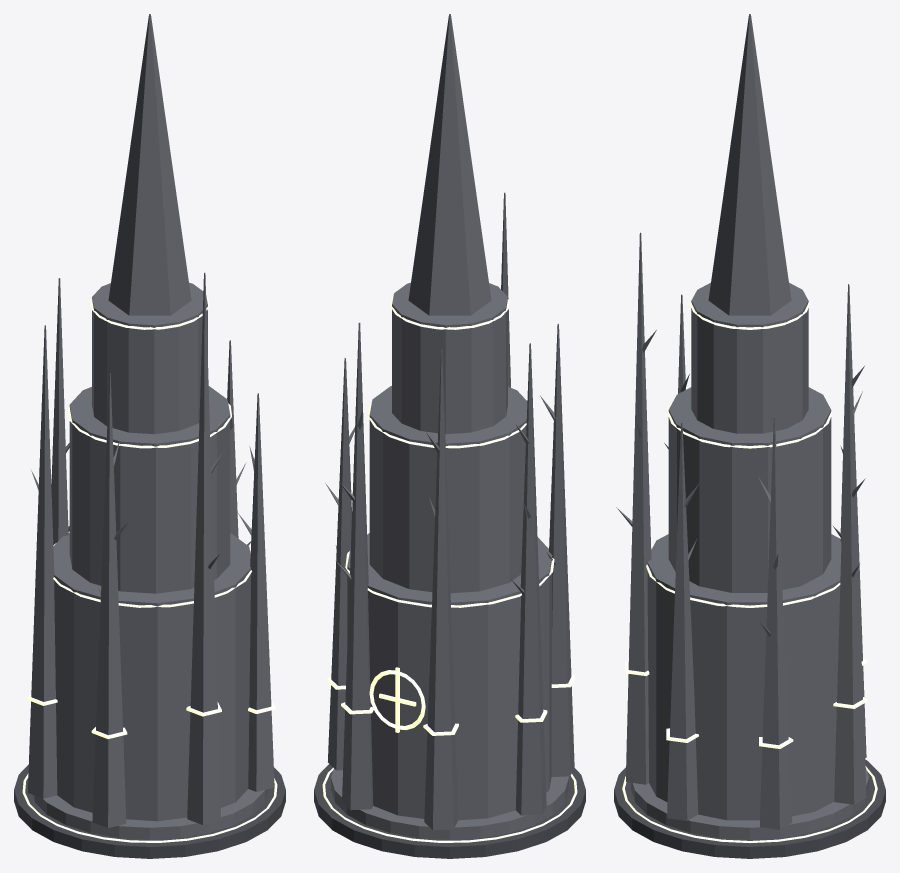
File: zone_high_6.glb
3 renders of one model, left to right at view 1: azimuth 30°, elevation 25°; view 2: azimuth 150°, elevation 25°; view 3: azimuth 270°, elevation 25°, orthographic.
Parts seen in each view (by area): view 1: zone_high_6; view 2: zone_high_6; view 3: zone_high_6.
Boxes of the visible parts, x1=… form: zone_high_6: x1=14, y1=14, x2=285, y2=858; zone_high_6: x1=314, y1=14, x2=585, y2=858; zone_high_6: x1=614, y1=14, x2=885, y2=858.
Bounding box in the file's own units: 28.8 × 92 × 28.8.
